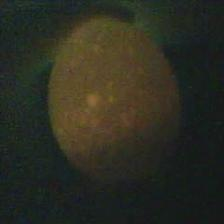fertile: (47, 12, 182, 185)
